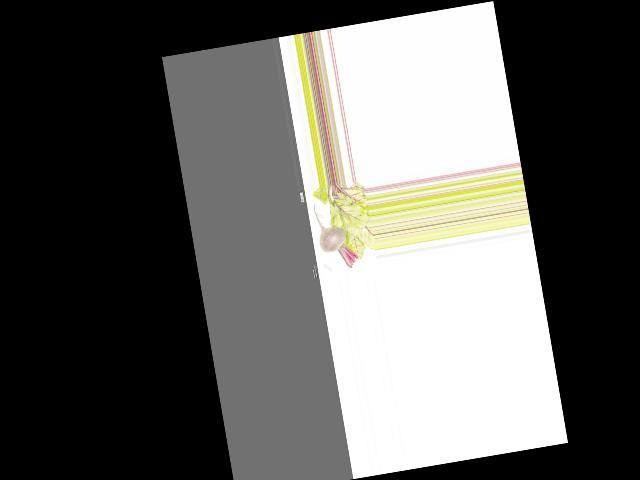beet: (312, 198, 359, 272)
